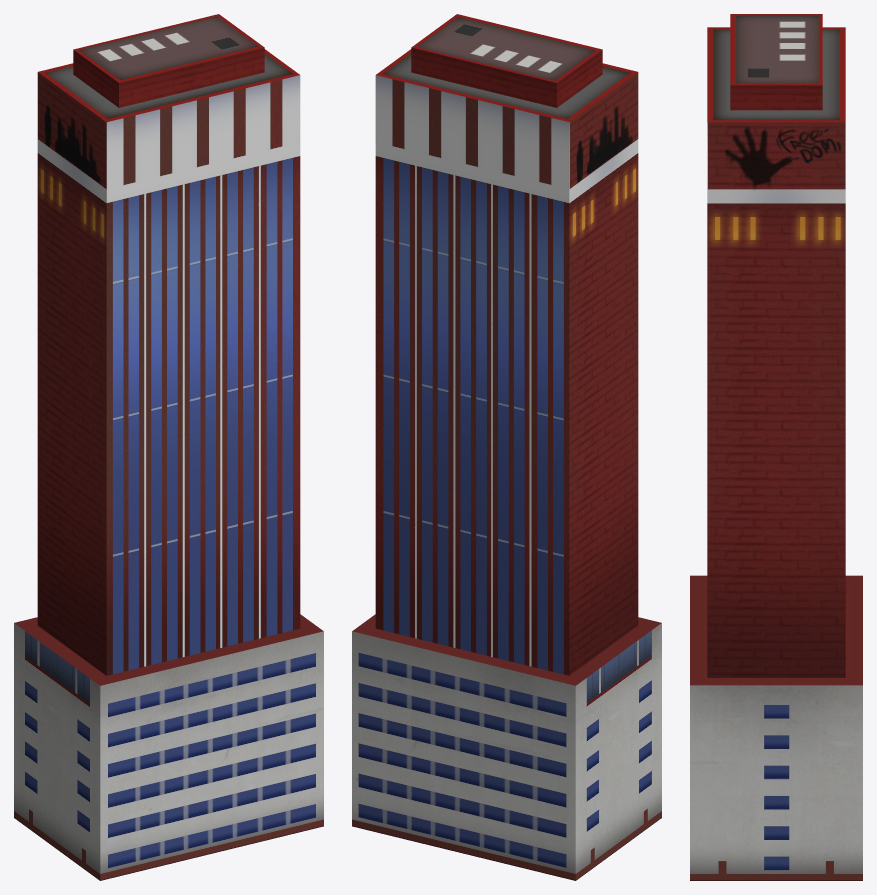
The model's file is House_3(2).FBX.
3 views of the same model, side by side, from view 1: azimuth 30°, elevation 25°; view 2: azimuth 150°, elevation 25°; view 3: azimuth 270°, elevation 25° (orthographic).
Parts seen in each view (by area): view 1: h_3; view 2: h_3; view 3: h_3.
Boxes of the visible parts, x1,y1,x2,y2 form: h_3: (14,14,323,880); h_3: (352,14,661,880); h_3: (690,14,862,880).
Bounding box in the file's own units: 30 × 99.14 × 20.
Materials: 1 (1 with a texture image).
